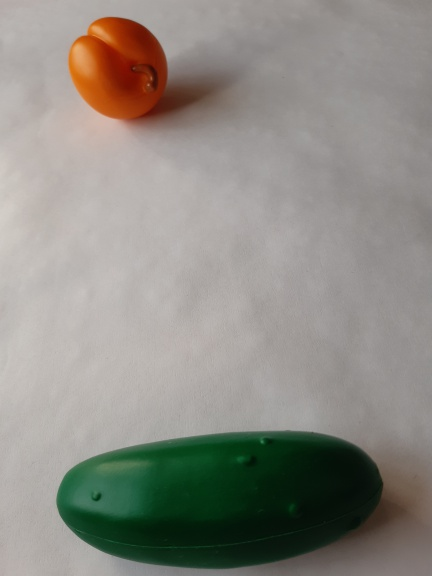apricot: (57, 11, 180, 124)
cucumber: (41, 417, 399, 576)
